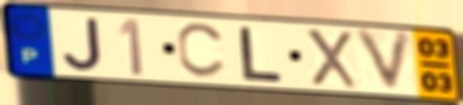1: (117, 17, 144, 77)
C: (174, 21, 229, 81)
J: (61, 16, 105, 73)
L: (237, 25, 286, 85)
V: (351, 27, 417, 97)
X: (302, 27, 360, 91)
